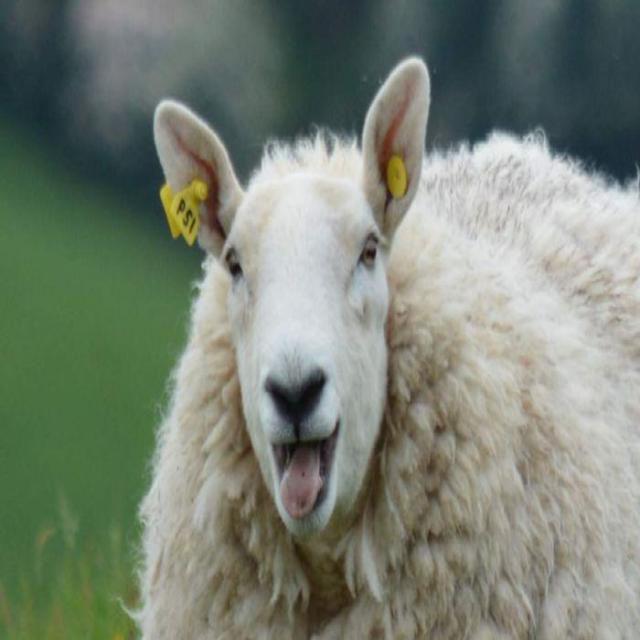Sheep: (134, 59, 639, 639)
